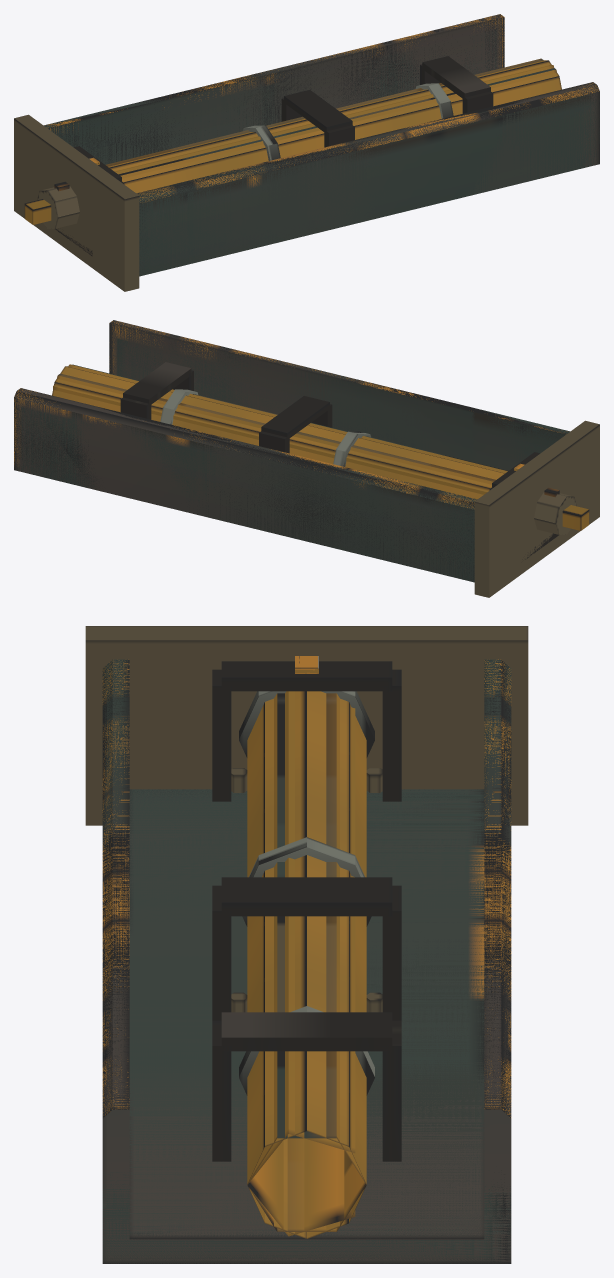
Rendered from place_works_conduit_power_end.glb.
3 renders of one model, top to bottom at view 1: azimuth 30°, elevation 25°; view 2: azimuth 150°, elevation 25°; view 3: azimuth 270°, elevation 25°, orthographic. The views are drawn at different scales.
Visible parts, largest first — view 1: LOD0_Merged_Material_Atlas, LOD1_Merged_Material_Atlas, LOD2_Merged_Material_Atlas; view 2: LOD0_Merged_Material_Atlas, LOD1_Merged_Material_Atlas, LOD2_Merged_Material_Atlas; view 3: LOD0_Merged_Material_Atlas, LOD1_Merged_Material_Atlas, LOD2_Merged_Material_Atlas.
Boxes of the visible parts, x1=… form: LOD0_Merged_Material_Atlas: x1=14, y1=14, x2=599, y2=291; LOD1_Merged_Material_Atlas: x1=45, y1=14, x2=599, y2=275; LOD2_Merged_Material_Atlas: x1=45, y1=14, x2=599, y2=275; LOD0_Merged_Material_Atlas: x1=14, y1=320, x2=599, y2=597; LOD1_Merged_Material_Atlas: x1=14, y1=321, x2=567, y2=581; LOD2_Merged_Material_Atlas: x1=14, y1=320, x2=569, y2=581; LOD0_Merged_Material_Atlas: x1=85, y1=626, x2=528, y2=1263; LOD1_Merged_Material_Atlas: x1=102, y1=659, x2=511, y2=1263; LOD2_Merged_Material_Atlas: x1=102, y1=660, x2=511, y2=1263.
Bounding box in the file's own units: 1.41 × 0.24 × 0.52.
1 material, 1 textured.
